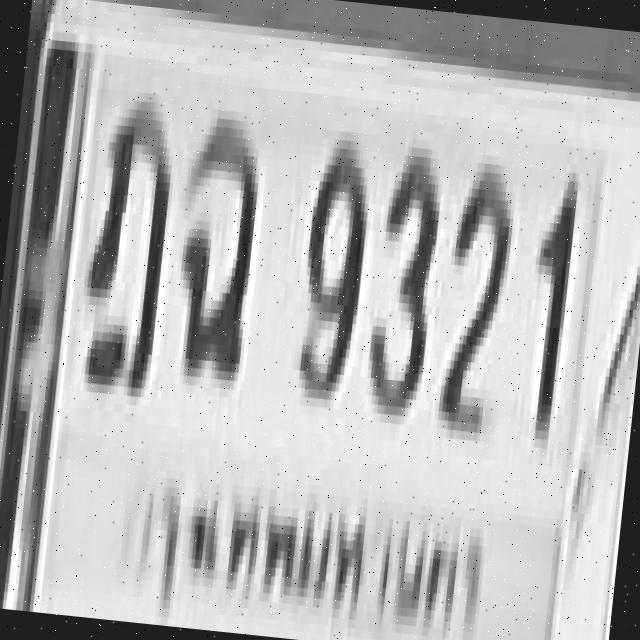1: (518, 166, 576, 436)
18ChorChing: (165, 102, 264, 376)
2: (433, 148, 516, 429)
23DorChaDa: (74, 89, 175, 388)
3: (360, 132, 443, 413)
9: (291, 128, 372, 392)
Bangkok: (118, 447, 495, 640)
